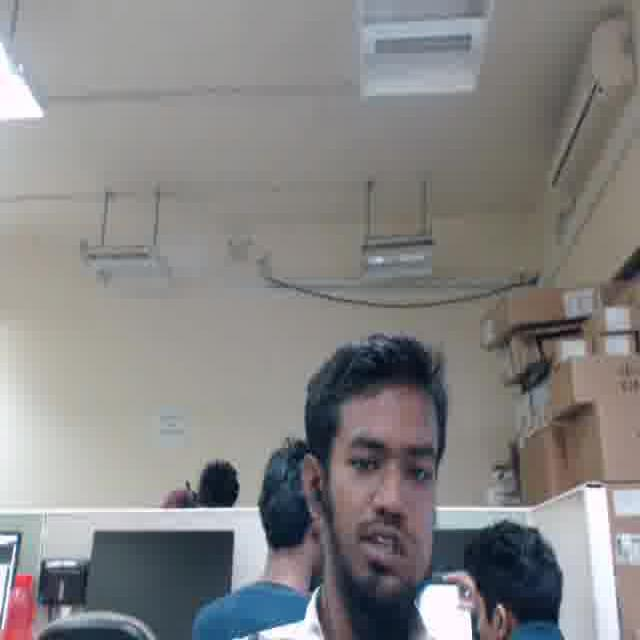Engaged: (327, 392, 442, 595)
